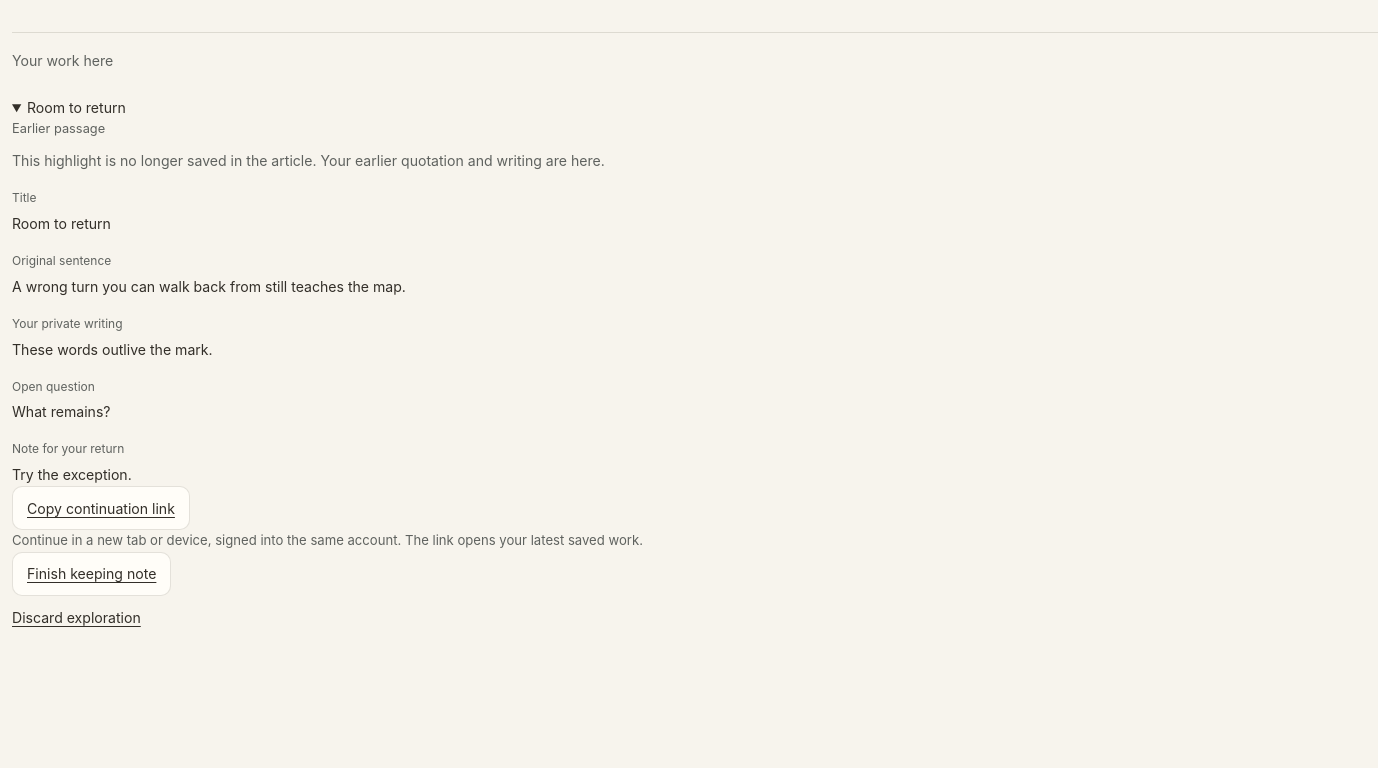
Test case: OpenedLibraryPassage › finishes an existing Library Keep without saving the missing origin again
Click the button "Finish keeping note" at [92, 574], box [12, 552, 171, 596]
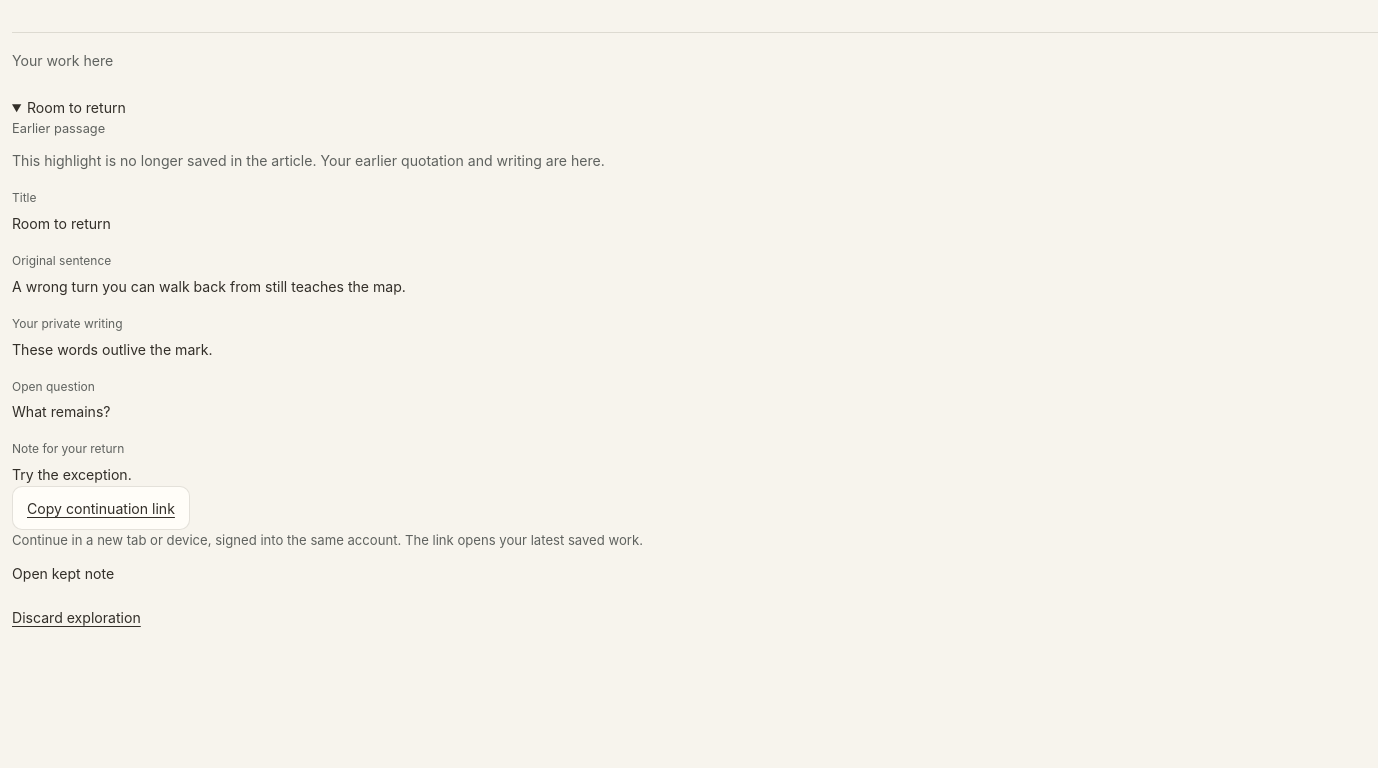
expect the link "Open kept note" is shown: met, box [12, 565, 114, 582]
